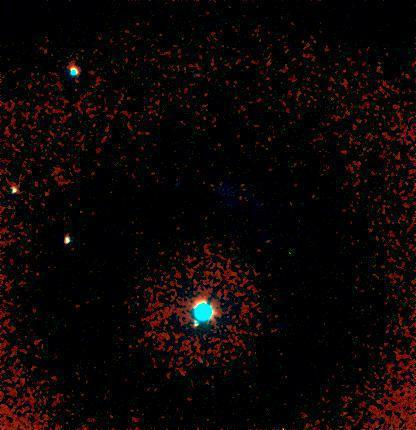star: (279, 238, 309, 268)
